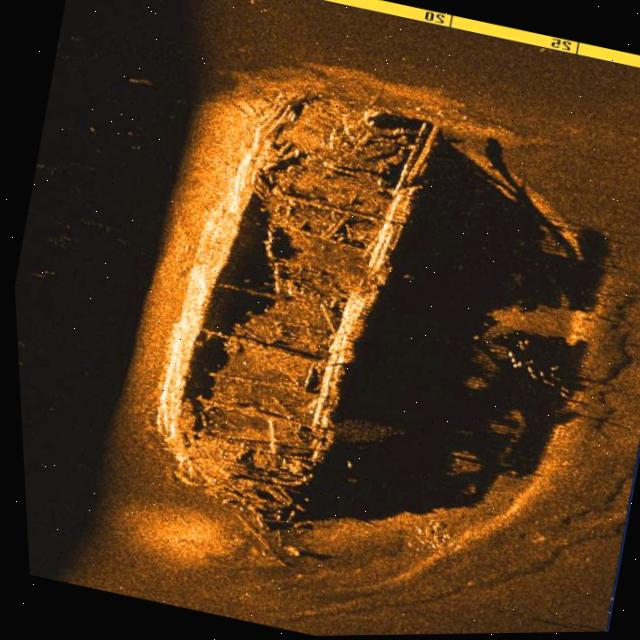shipwreck: (88, 63, 474, 557)
